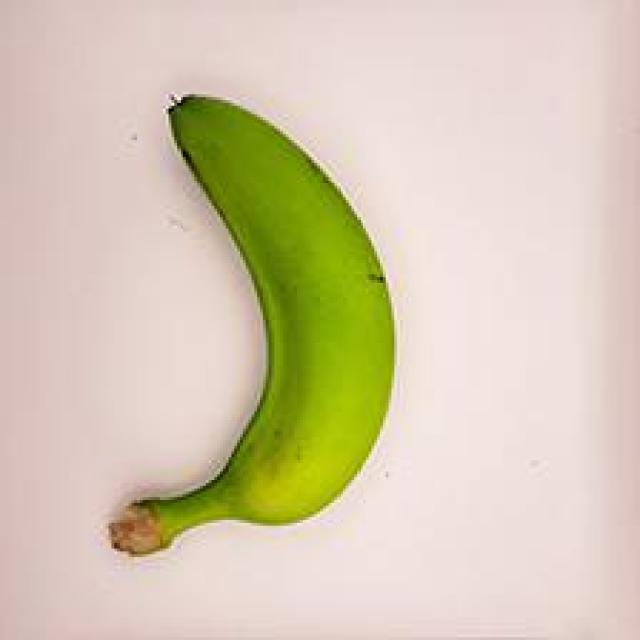raw: (54, 65, 450, 572)
